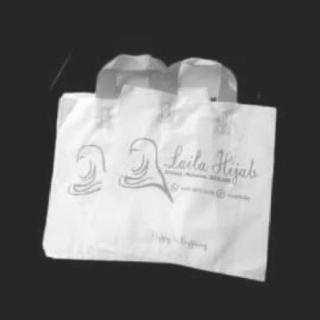objects: (51, 48, 283, 292)
